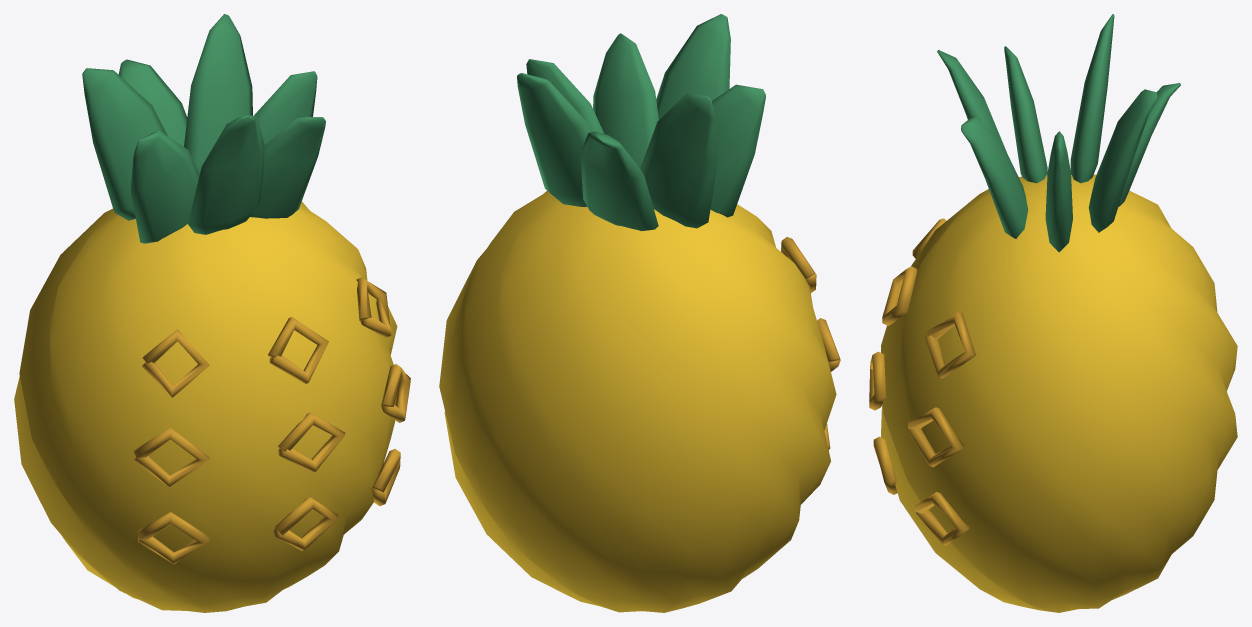
Rendered from pineapple.glb.
3 renders of one model, left to right at view 1: azimuth 30°, elevation 25°; view 2: azimuth 150°, elevation 25°; view 3: azimuth 270°, elevation 25°, orthographic. The views are drawn at different scales.
Visible parts, largest first — view 1: pineapple; view 2: pineapple; view 3: pineapple.
Part boxes in pixels (<box>): pineapple: <box>14,14,410,612</box>; pineapple: <box>439,14,840,612</box>; pineapple: <box>869,14,1237,612</box>.
Size of the model in its own units: 0.4207 by 0.609 by 0.3793.
